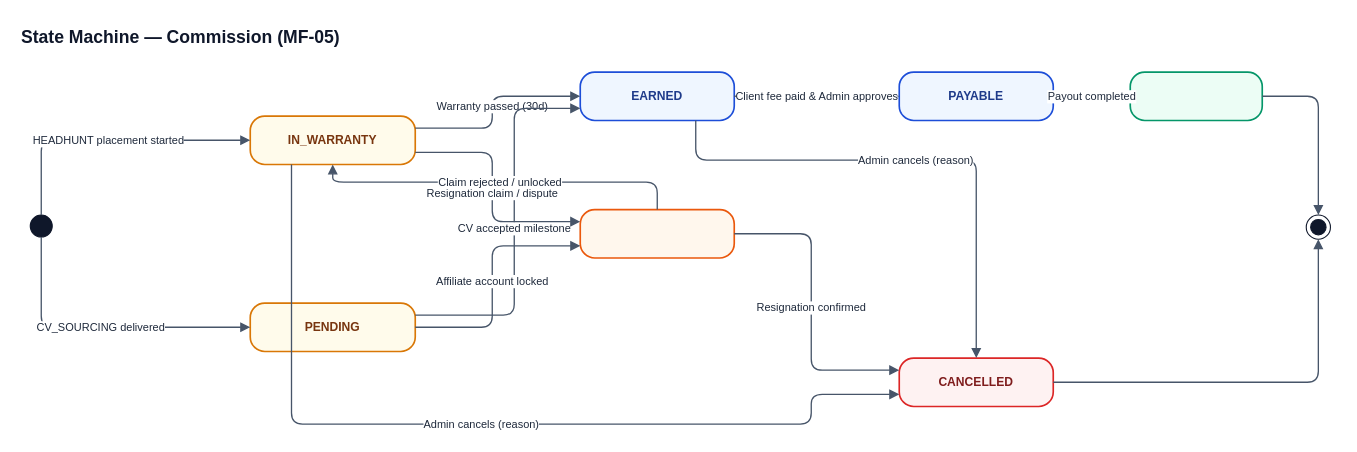
The diagram is 1357 pixels wide and 452 high, and some of its shapes have lost their labels. The shapes that lost their labels are listed below. From the top down, each one's box as (x1, y1, x2, y2) in pixels, then its label:
(1129, 71, 1263, 121): PAID
(579, 208, 735, 258): ON_HOLD
